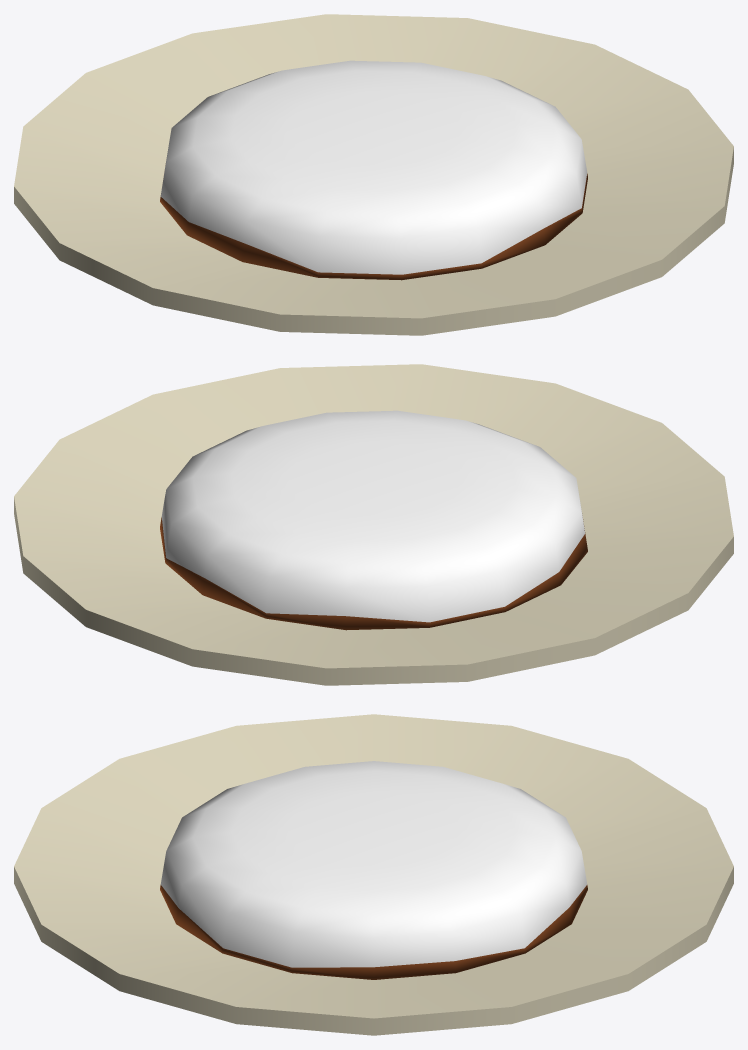
The model's file is PithiviersCooked.fbx.
3 views of the same model, one above another, from view 1: azimuth 30°, elevation 25°; view 2: azimuth 150°, elevation 25°; view 3: azimuth 270°, elevation 25° (orthographic).
Visible parts, largest first — view 1: Pithiviers_Cooked; view 2: Pithiviers_Cooked; view 3: Pithiviers_Cooked.
Boxes of the visible parts, x1,y1,x2,y2 form: Pithiviers_Cooked: (14, 14, 733, 335); Pithiviers_Cooked: (14, 364, 733, 685); Pithiviers_Cooked: (14, 714, 733, 1035).
Size of the model in its own units: 0.6488 by 0.6488 by 0.0997.
